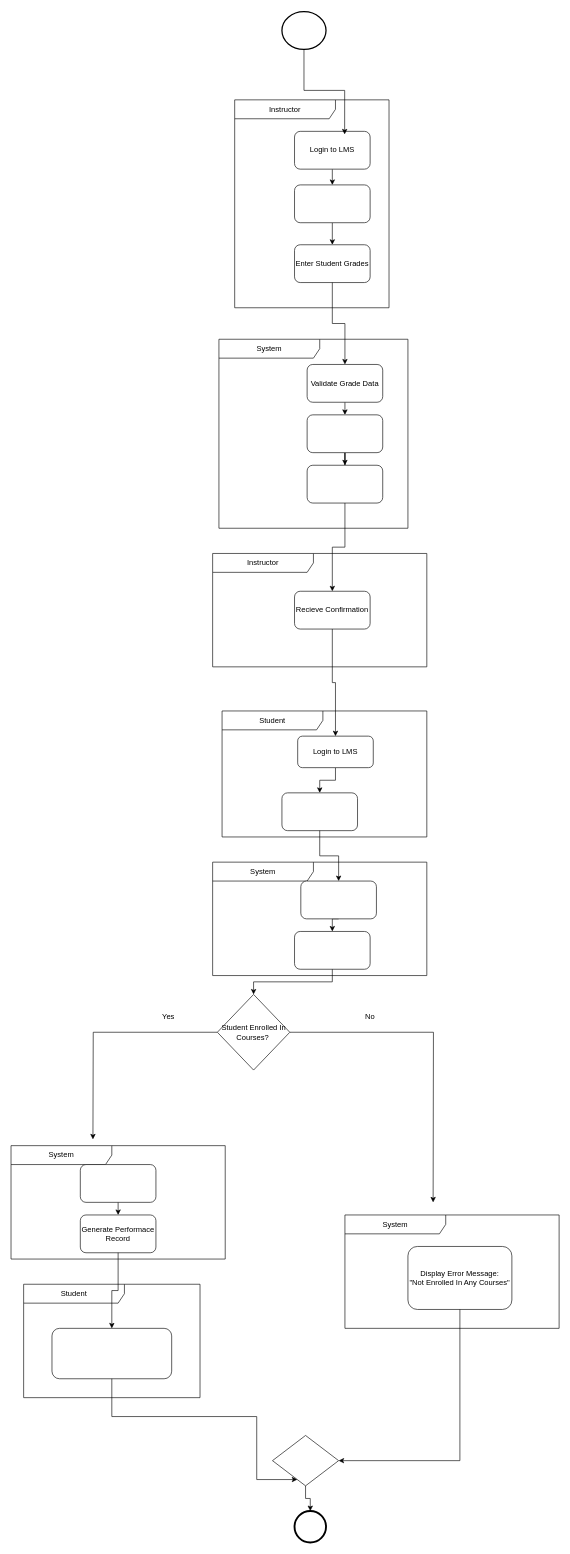
Image size: 570x1554. Some labels were removed from this diagram. Here are the shapes that lost their labels. From the top down, the centre of each, then its label:
[332,203]: Select "Manage Grades"
[344,433]: Update Grades In Database
[344,484]: Confirm Grade Update
[319,811]: Select View Performance Report
[338,899]: Validate Student Enrollment
[332,950]: Retrieve Course and Grade Data
[118,1183]: Calculate GPA
[111,1353]: View Performance Record
